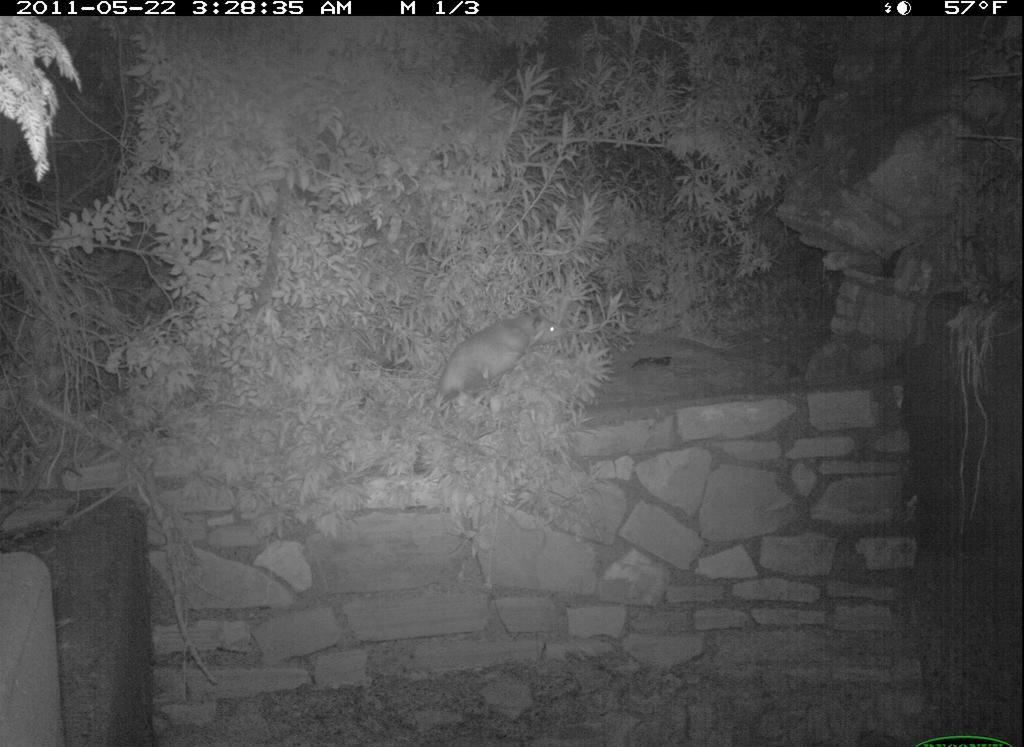opossum: (428, 297, 571, 410)
